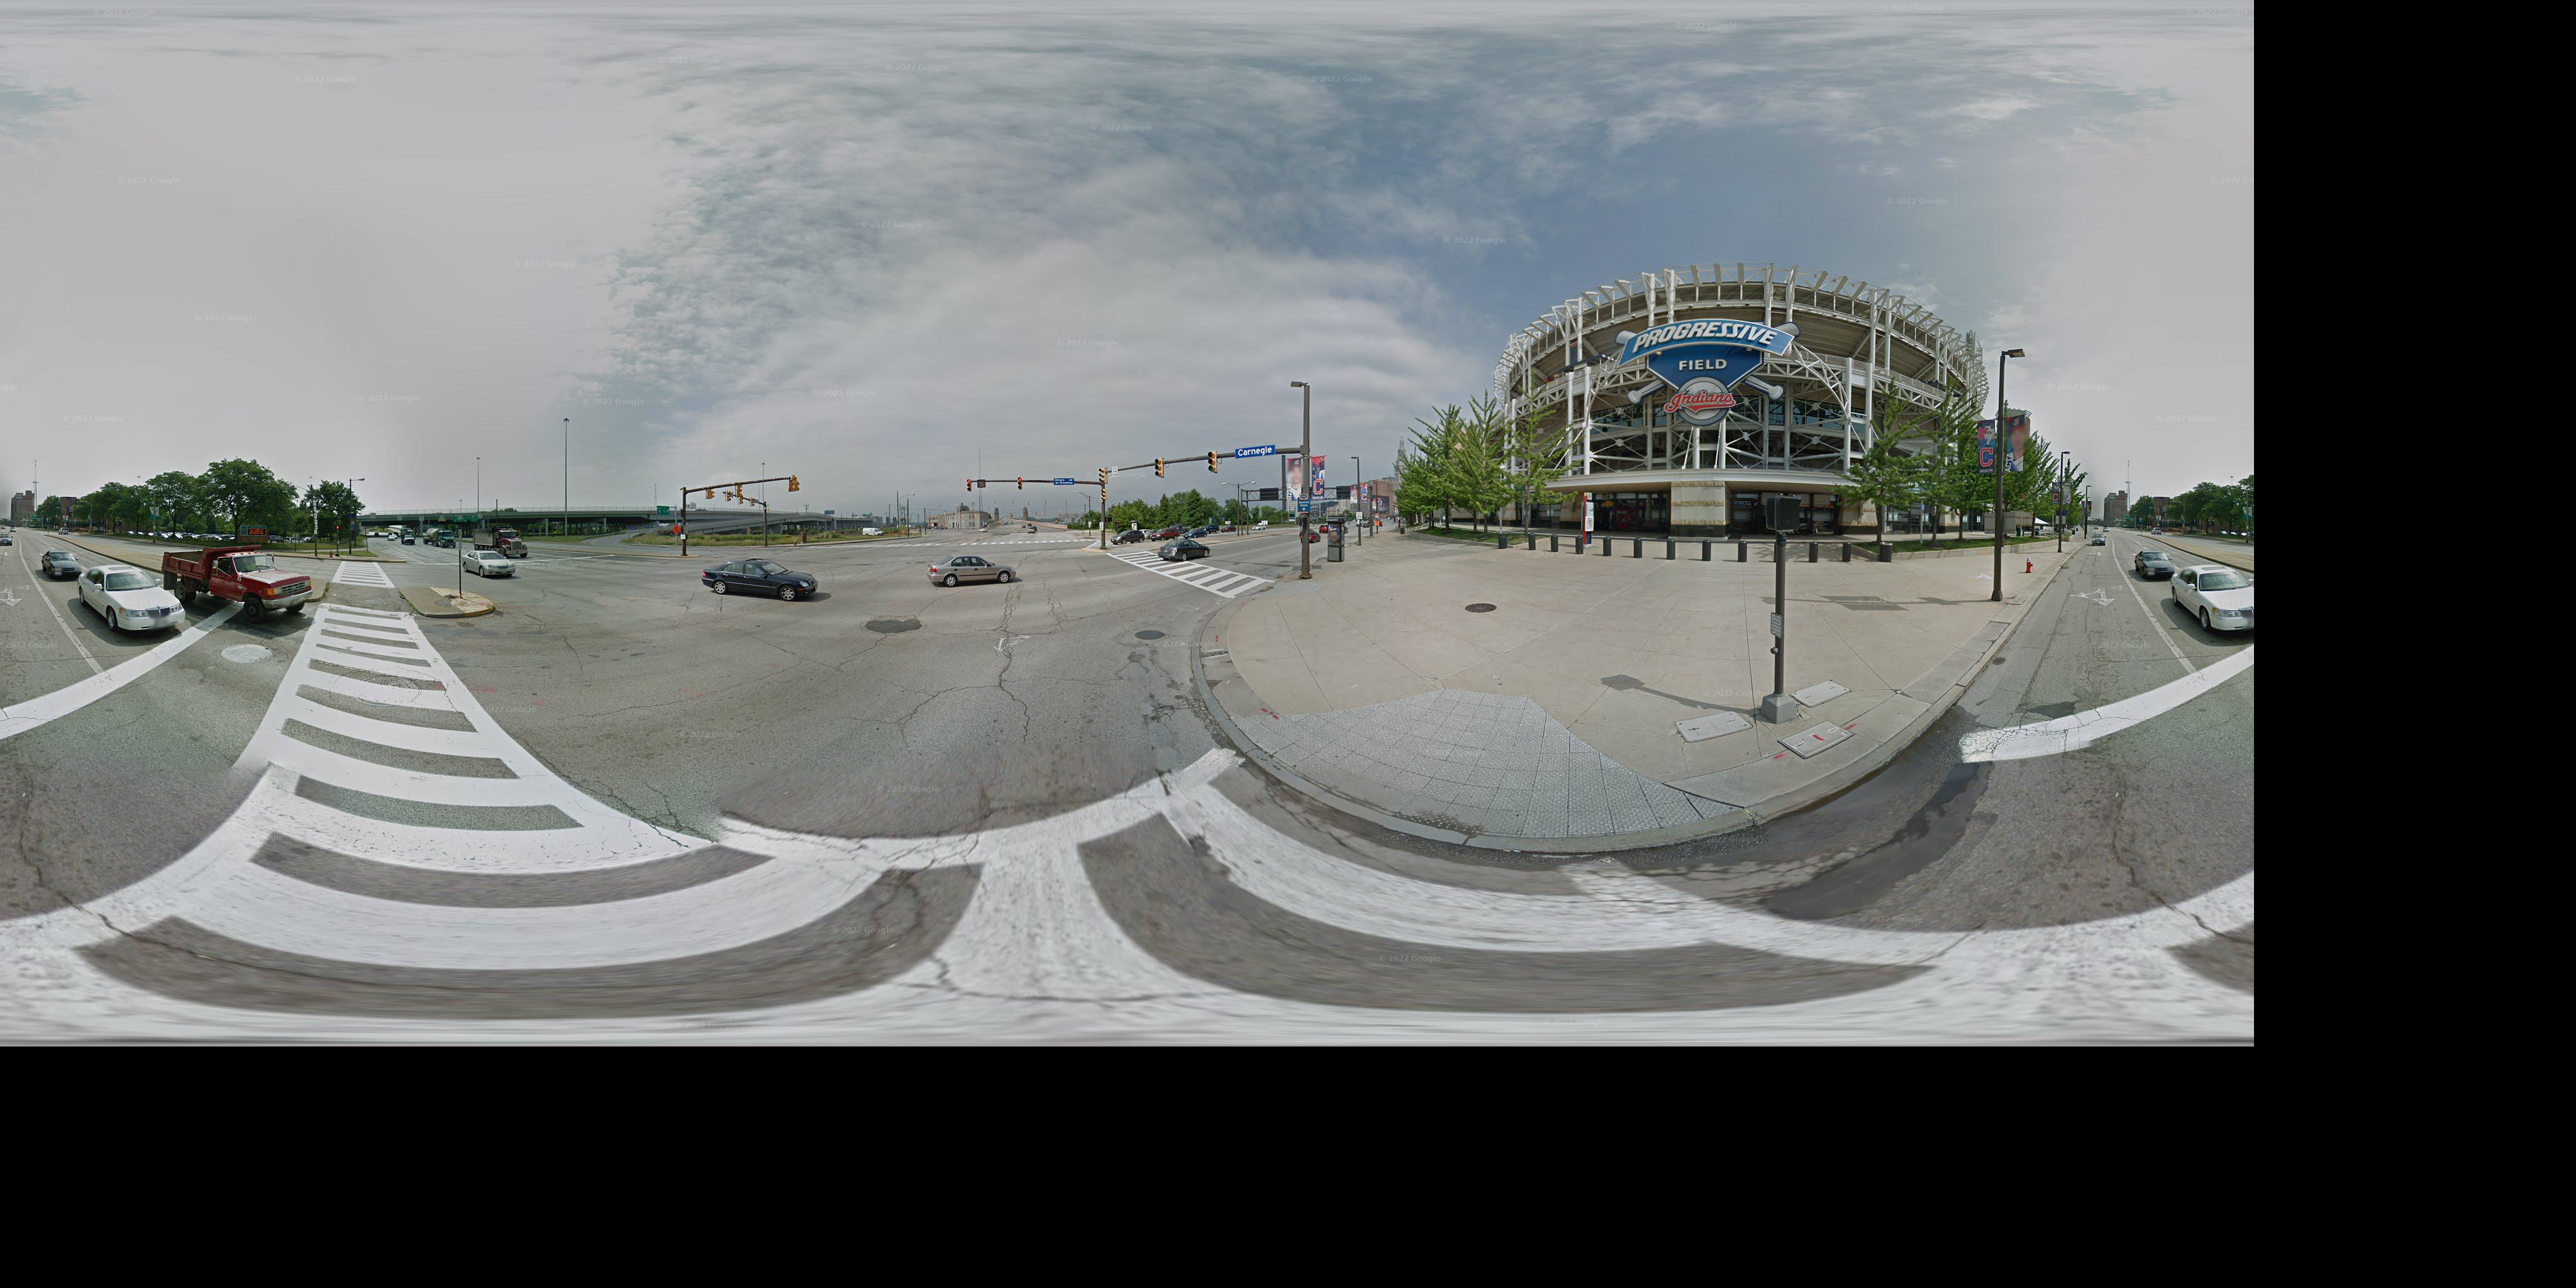Curb Ramp: (1219, 631, 1733, 913), (1111, 547, 1145, 555)
Missing Curb Ramp: (338, 552, 379, 568)
